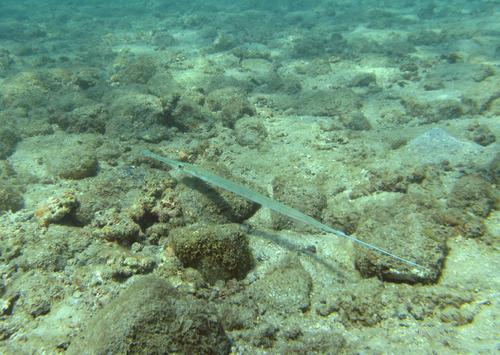Fistularia commersonii: (139, 145, 435, 280)
